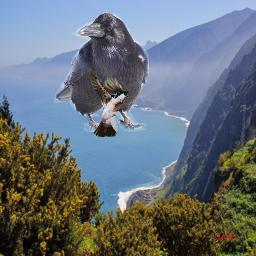Crow: (54, 11, 149, 132)
Swallow: (86, 65, 129, 137)
